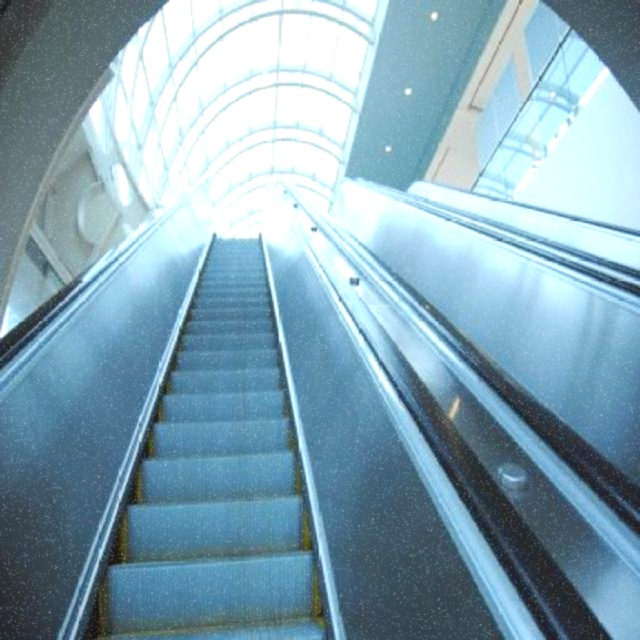stair: (91, 232, 340, 640)
